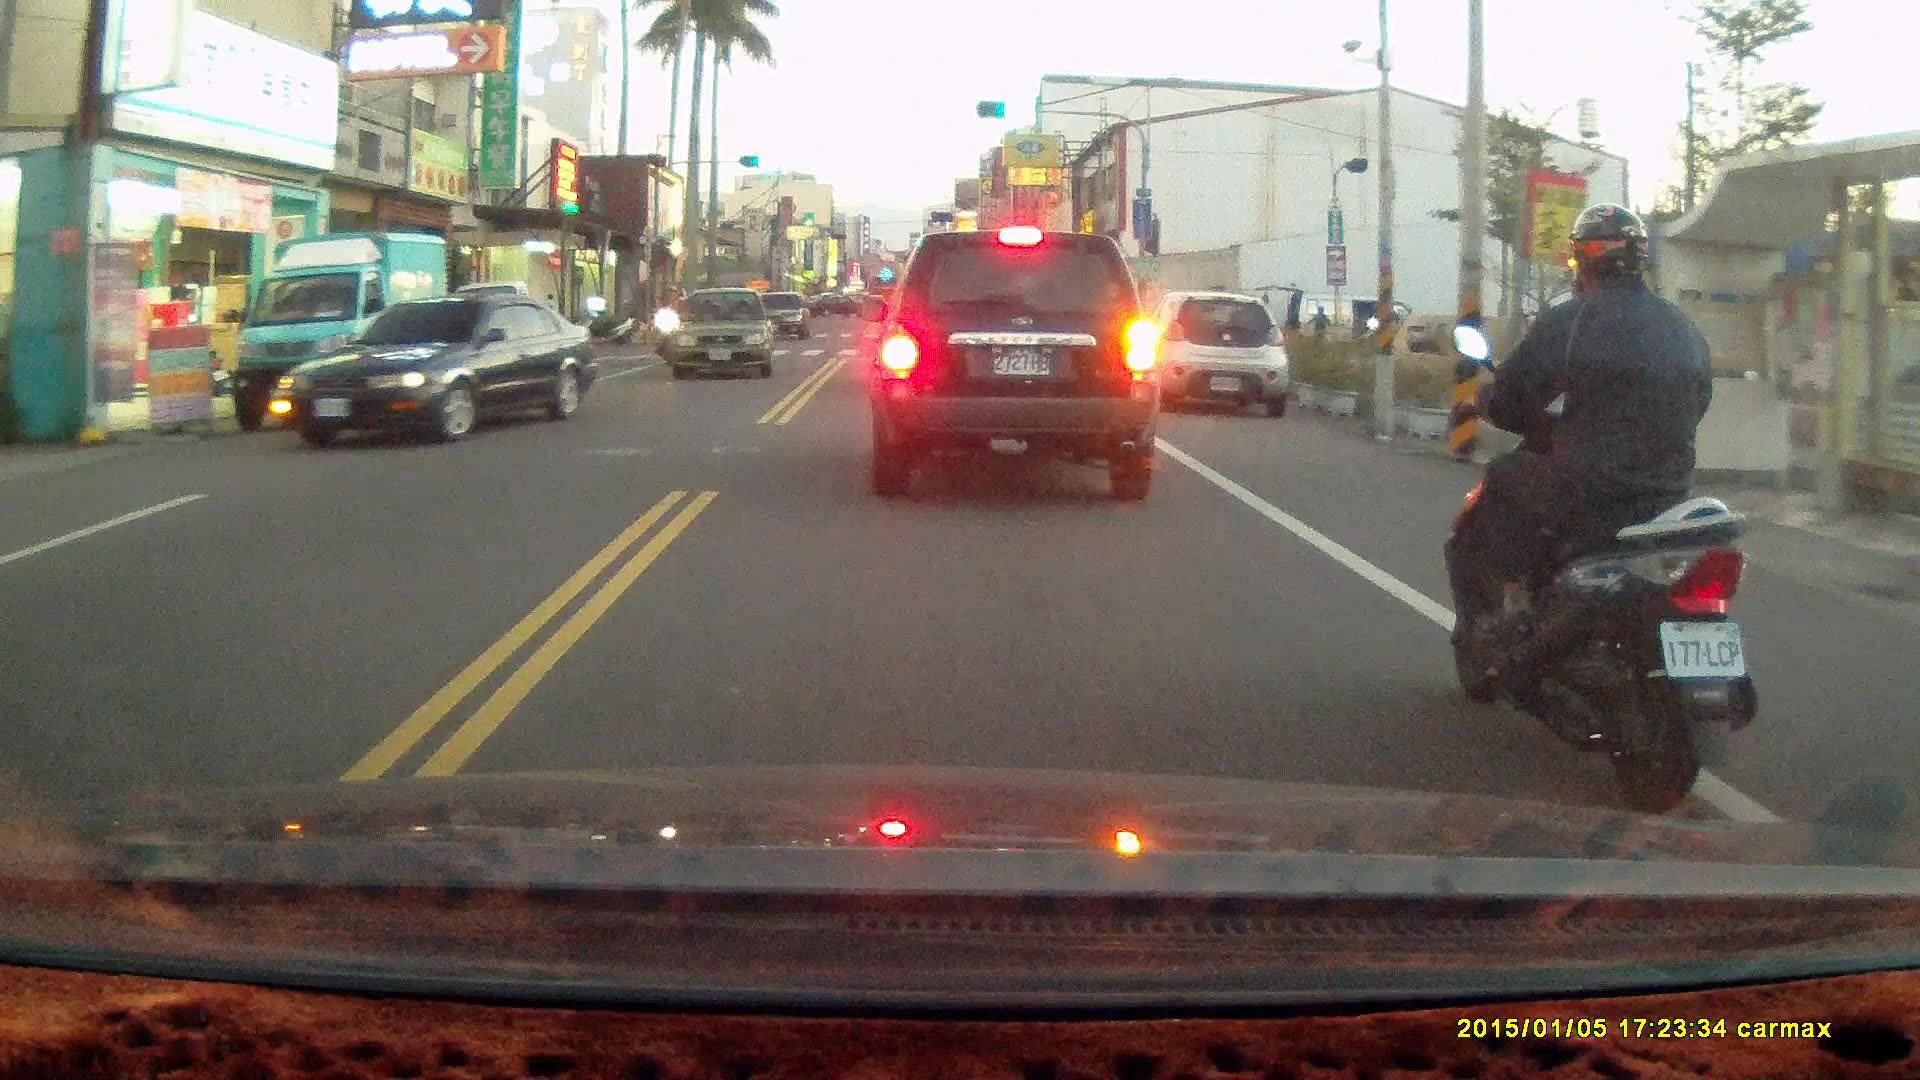rider: (1442, 199, 1757, 810), (649, 282, 689, 366)
vehicle: (868, 227, 1158, 503), (277, 291, 601, 443), (228, 230, 456, 428), (1144, 291, 1291, 421), (666, 287, 778, 386)
